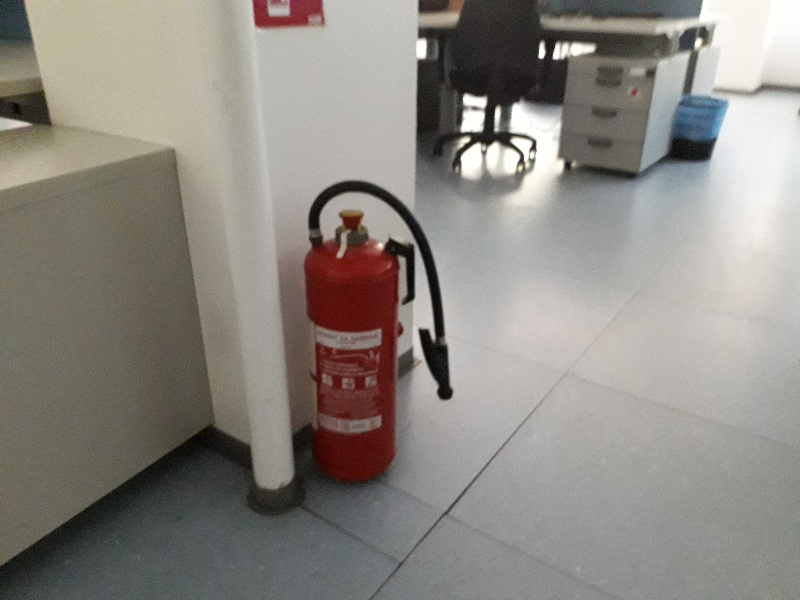vataparat: (302, 179, 454, 481)
